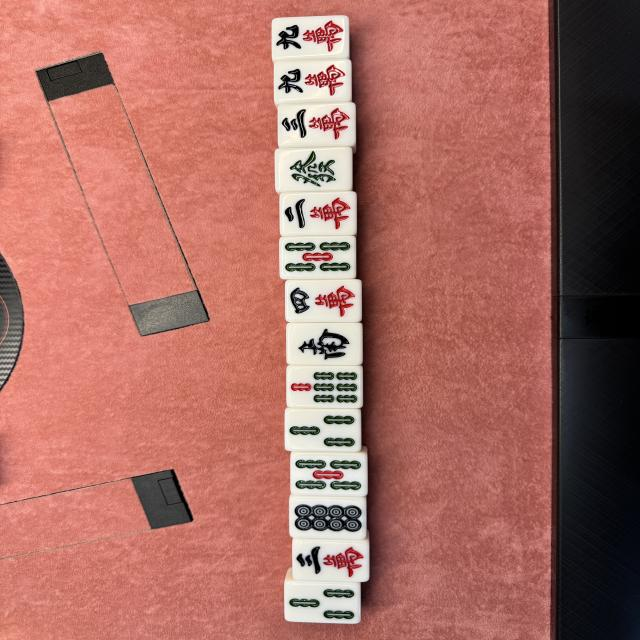sd1: (275, 146, 352, 192), (271, 15, 349, 60), (273, 58, 352, 102), (278, 102, 356, 146), (290, 453, 368, 496), (285, 408, 361, 452), (279, 236, 356, 279), (289, 496, 366, 539), (292, 540, 370, 582), (284, 582, 362, 624), (280, 192, 356, 235), (285, 280, 362, 322), (286, 323, 363, 365), (287, 366, 363, 408)
